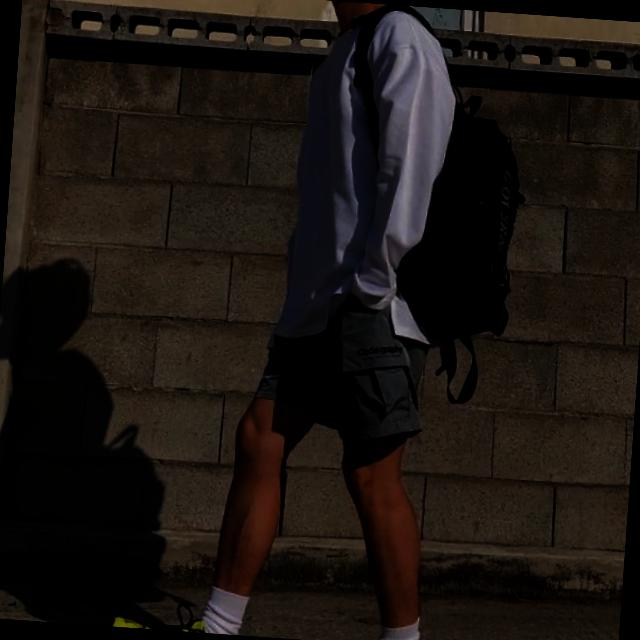longsleeve: (271, 4, 464, 348)
shortpants: (250, 280, 433, 447)
